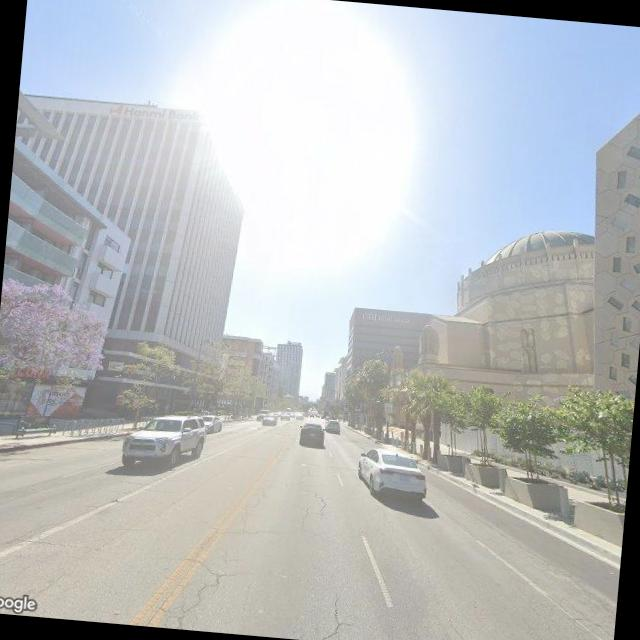crack: (125, 548, 244, 632), (198, 513, 290, 547), (232, 480, 278, 532), (309, 589, 351, 640), (306, 478, 332, 522)
